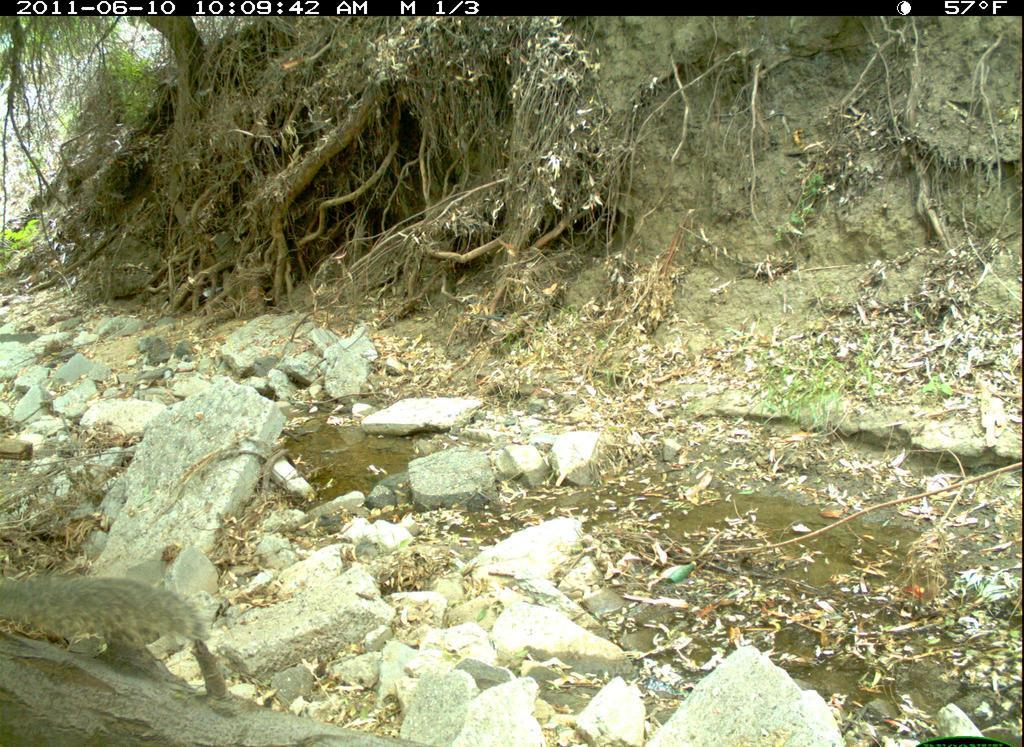squirrel: (4, 561, 240, 671)
